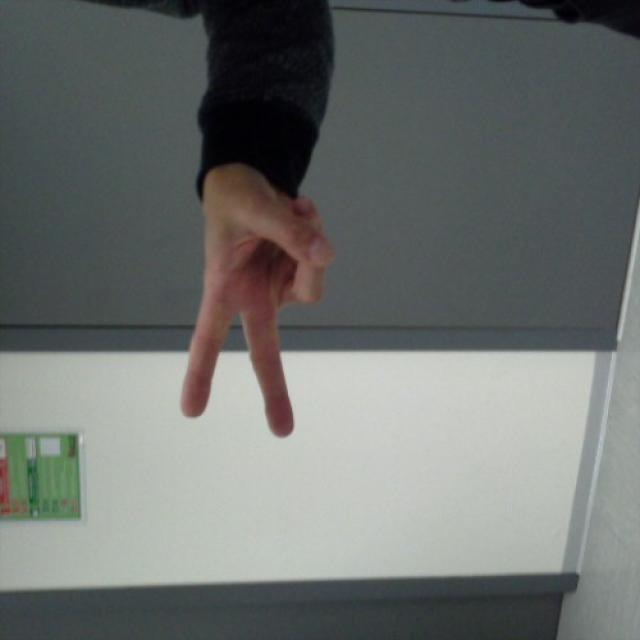scissors: (175, 183, 339, 440)
